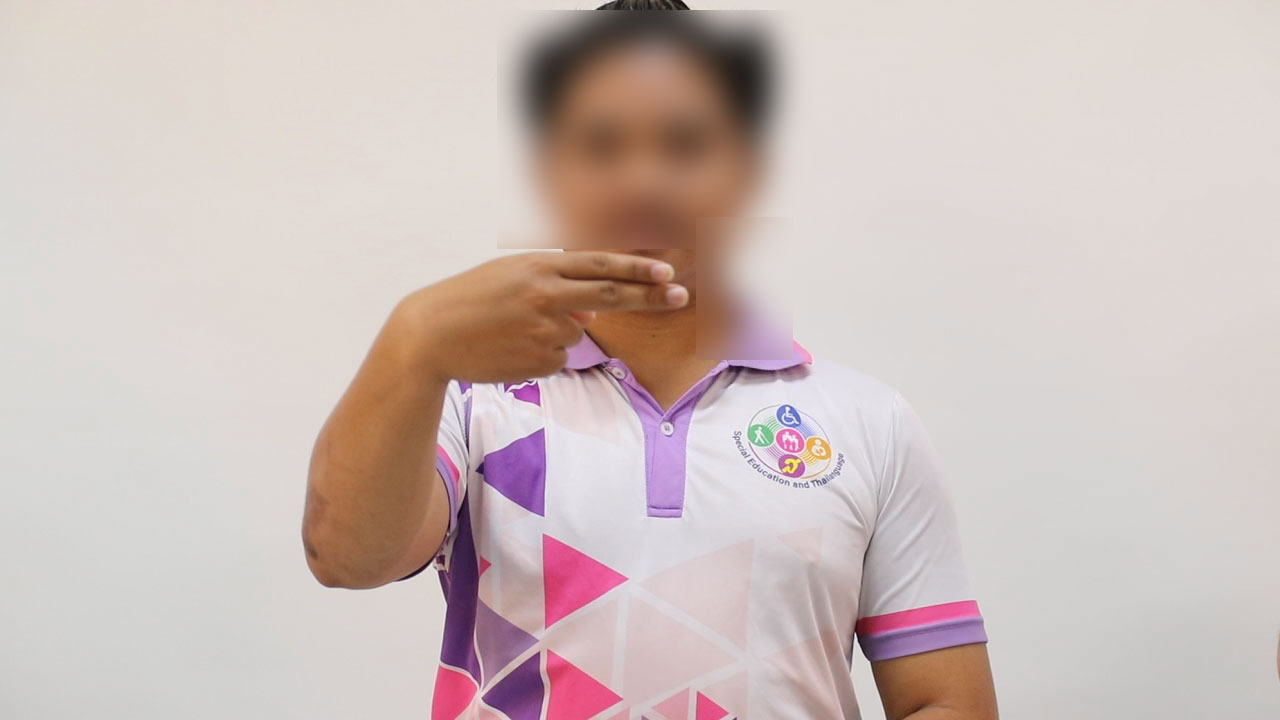hor: (370, 238, 702, 395)
